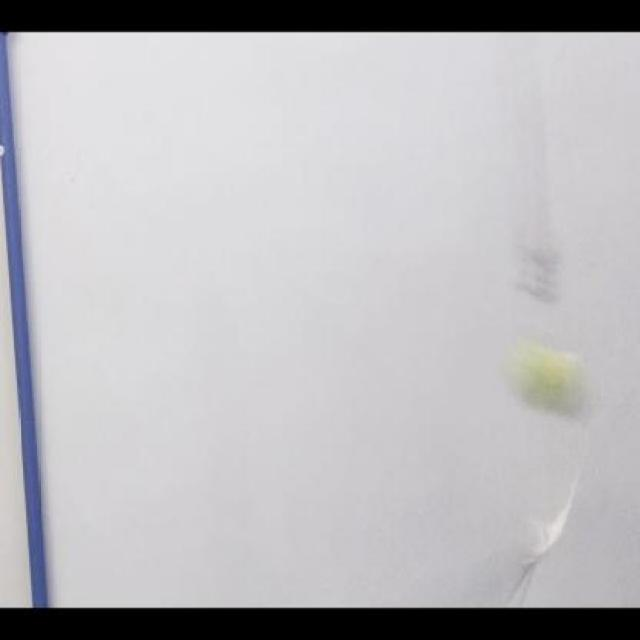baseball: (514, 338, 584, 416)
